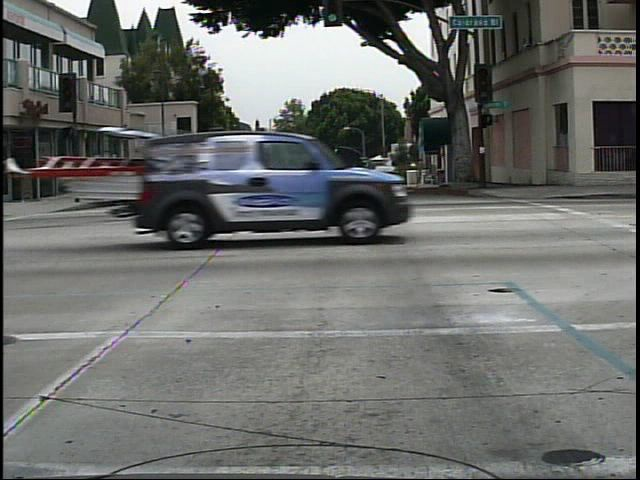person: (456, 140, 484, 196), (95, 153, 121, 202)
